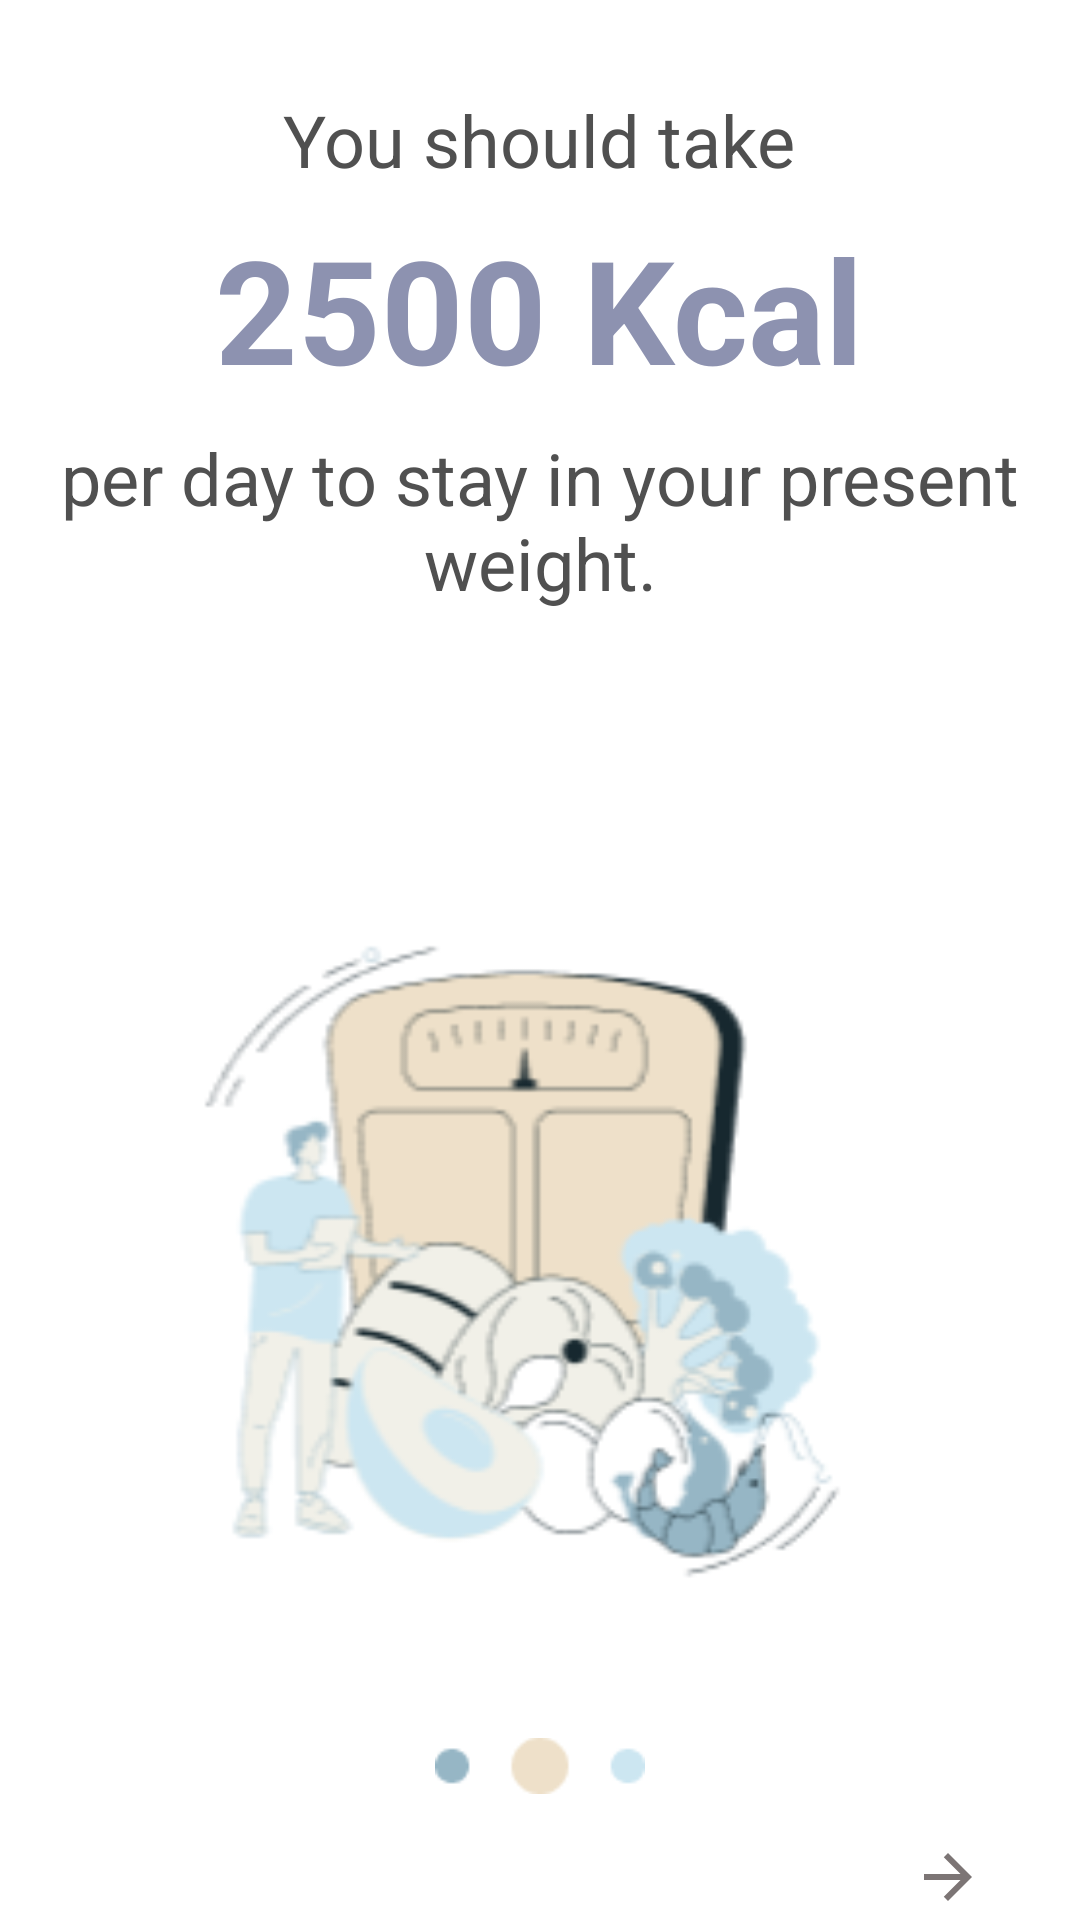

Where to tap for icons on this 1080w x 1920h app screen, as point (x, y):
arrow forward: point (948, 1877)
threedotts: point (540, 1766)
